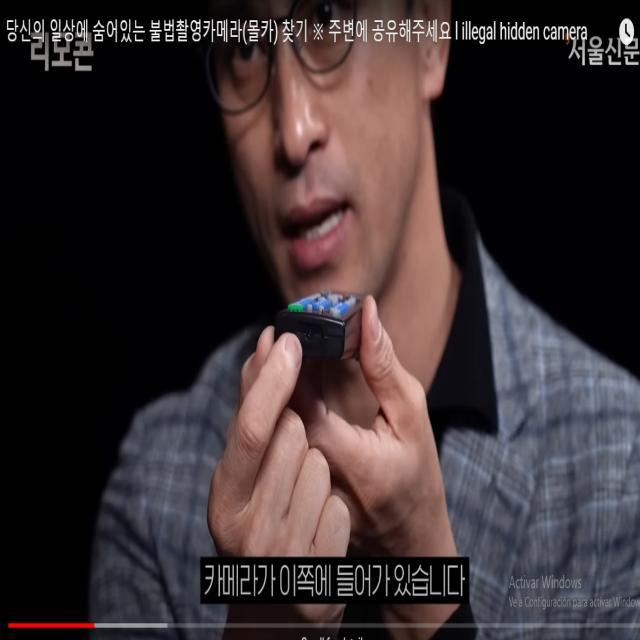hidden camera: (306, 326, 313, 341)
